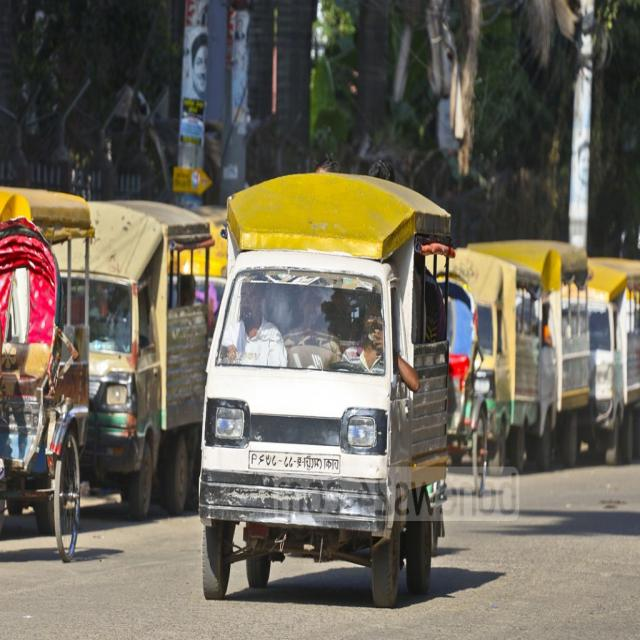Leguna: (199, 162, 455, 607), (72, 205, 213, 514)
Rickshaw: (1, 214, 82, 574)
